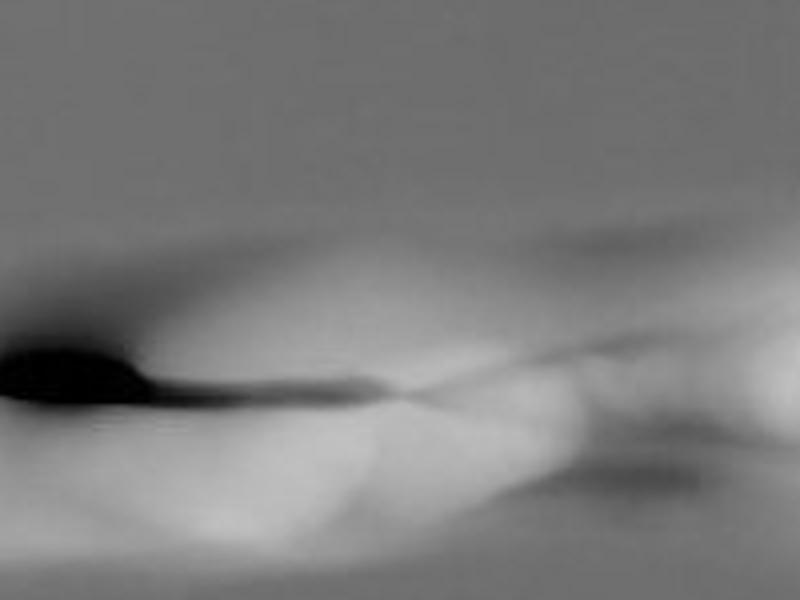defect: (3, 338, 161, 410)
